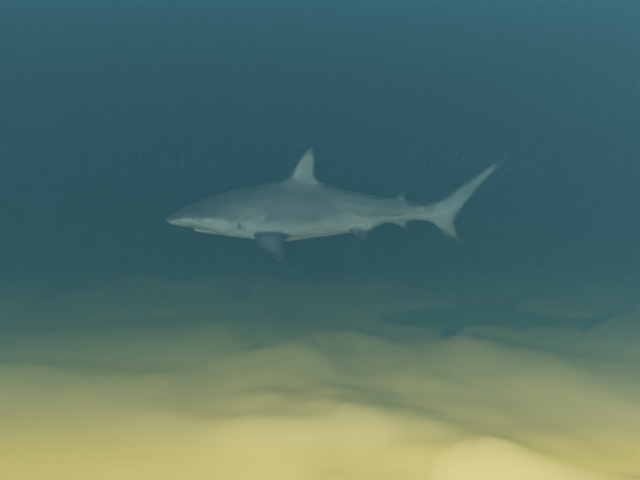Carribean Shark.001: (166, 146, 507, 260)
